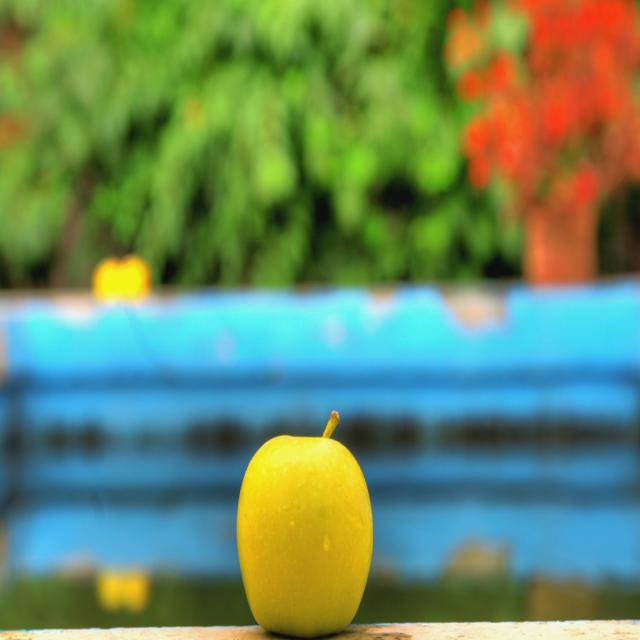Healty Apple: (236, 410, 372, 636)
